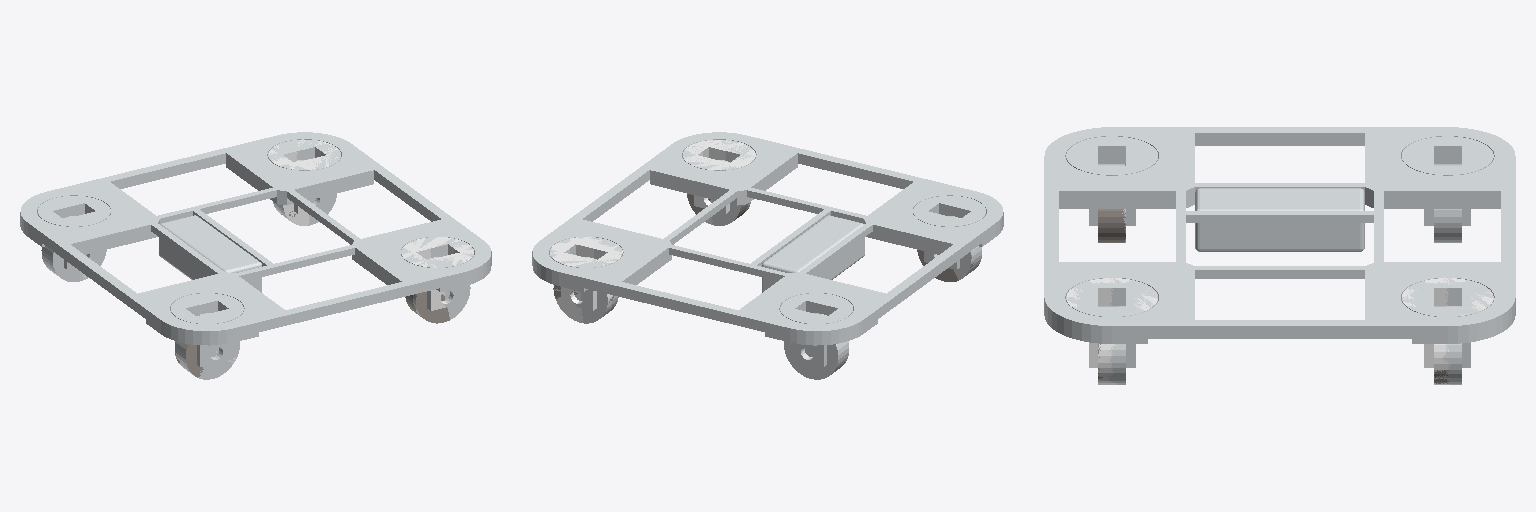
URDF robot description (urdf5):
<?xml version="1.0" encoding="utf-8"?>
<!-- This URDF was automatically created by SolidWorks to URDF Exporter! Originally created by [author] ([email redacted]) 
     Commit Version: 1.6.0-4-g7f85cfe  Build Version: 1.6.7995.38578
     For more information, please see http://wiki.ros.org/sw_urdf_exporter -->
<robot
  name="urdf5">
  <link
    name="base_link">
    <inertial>
      <origin
        xyz="0.239806775598059 0.0644983827316922 -0.250000000000001"
        rpy="0 0 0" />
      <mass
        value="6.94691712905856" />
      <inertia
        ixx="0.0103879006677156"
        ixy="1.41792371111216E-19"
        ixz="1.05493782271877E-17"
        iyy="0.0155271521411309"
        iyz="-1.61656369620734E-18"
        izz="0.00891994931423242" />
    </inertial>
    <visual>
      <origin
        xyz="0 0 0"
        rpy="0 0 0" />
      <geometry>
        <mesh
          filename="package://urdf5/meshes/base_link.STL" />
      </geometry>
      <material
        name="">
        <color
          rgba="0.898039215686275 0.917647058823529 0.929411764705882 1" />
      </material>
    </visual>
    <collision>
      <origin
        xyz="0 0 0"
        rpy="0 0 0" />
      <geometry>
        <mesh
          filename="package://urdf5/meshes/base_link.STL" />
      </geometry>
    </collision>
  </link>
  <link
    name="st_fr">
    <inertial>
      <origin
        xyz="0 2.77555756156289E-17 -0.0477326937791912"
        rpy="0 0 0" />
      <mass
        value="0.98656895809198" />
      <inertia
        ixx="0.000605869465521238"
        ixy="-2.69820152010115E-18"
        ixz="-8.94048776580583E-21"
        iyy="0.000870444277121926"
        iyz="2.36979477125424E-20"
        izz="0.000666770084789447" />
    </inertial>
    <visual>
      <origin
        xyz="0 0 0"
        rpy="0 0 0" />
      <geometry>
        <mesh
          filename="package://urdf5/meshes/st_fr.STL" />
      </geometry>
      <material
        name="">
        <color
          rgba="1 1 1 1" />
      </material>
    </visual>
    <collision>
      <origin
        xyz="0 0 0"
        rpy="0 0 0" />
      <geometry>
        <mesh
          filename="package://urdf5/meshes/st_fr.STL" />
      </geometry>
    </collision>
  </link>
  <joint
    name="st_fr"
    type="fixed">
    <origin
      xyz="0.428 0.072 0.098"
      rpy="0 0 3.1416" />
    <parent
      link="base_link" />
    <child
      link="st_fr" />
    <axis
      xyz="0 0 0" />
  </joint>
  <link
    name="wh_fr">
    <inertial>
      <origin
        xyz="-1.11022302462516E-16 2.77555756156289E-17 0.015"
        rpy="0 0 0" />
      <mass
        value="0.764764182848667" />
      <inertia
        ixx="0.000394618318349911"
        ixy="-2.71050543121423E-20"
        ixz="-2.70957328763451E-18"
        iyy="0.000394618318349911"
        iyz="1.11599666701632E-19"
        izz="0.000674522009272522" />
    </inertial>
    <visual>
      <origin
        xyz="0 0 0"
        rpy="0 0 0" />
      <geometry>
        <mesh
          filename="package://urdf5/meshes/wh_fr.STL" />
      </geometry>
      <material
        name="">
        <color
          rgba="0.686274509803922 0.658823529411765 0.63921568627451 1" />
      </material>
    </visual>
    <collision>
      <origin
        xyz="0 0 0"
        rpy="0 0 0" />
      <geometry>
        <mesh
          filename="package://urdf5/meshes/wh_fr.STL" />
      </geometry>
    </collision>
  </link>
  <joint
    name="wh_fr"
    type="fixed">
    <origin
      xyz="0 0.015 -0.056"
      rpy="-1.5708 -0.31698 3.1416" />
    <parent
      link="st_fr" />
    <child
      link="wh_fr" />
    <axis
      xyz="0 0 0" />
  </joint>
  <link
    name="st_fl">
    <inertial>
      <origin
        xyz="1.11022302462516E-16 5.55111512312578E-17 -0.0477326937791915"
        rpy="0 0 0" />
      <mass
        value="0.986568958091981" />
      <inertia
        ixx="0.000605869465521238"
        ixy="-2.66991795281759E-18"
        ixz="-1.0364211779504E-20"
        iyy="0.000870444277121927"
        iyz="-7.58784823176238E-20"
        izz="0.000666770084789447" />
    </inertial>
    <visual>
      <origin
        xyz="0 0 0"
        rpy="0 0 0" />
      <geometry>
        <mesh
          filename="package://urdf5/meshes/st_fl.STL" />
      </geometry>
      <material
        name="">
        <color
          rgba="1 1 1 1" />
      </material>
    </visual>
    <collision>
      <origin
        xyz="0 0 0"
        rpy="0 0 0" />
      <geometry>
        <mesh
          filename="package://urdf5/meshes/st_fl.STL" />
      </geometry>
    </collision>
  </link>
  <joint
    name="st_fl"
    type="fixed">
    <origin
      xyz="0.428 0.428 0.098"
      rpy="0 0 3.1416" />
    <parent
      link="base_link" />
    <child
      link="st_fl" />
    <axis
      xyz="0 0 0" />
  </joint>
  <link
    name="wh_fl">
    <inertial>
      <origin
        xyz="-1.38777878078145E-17 -5.55111512312578E-17 0.0150000000000001"
        rpy="0 0 0" />
      <mass
        value="0.764764182848668" />
      <inertia
        ixx="0.000394618318349911"
        ixy="2.80869186206329E-33"
        ixz="-5.05968944935445E-19"
        iyy="0.000394618318349911"
        iyz="-3.30844112456072E-19"
        izz="0.000674522009272522" />
    </inertial>
    <visual>
      <origin
        xyz="0 0 0"
        rpy="0 0 0" />
      <geometry>
        <mesh
          filename="package://urdf5/meshes/wh_fl.STL" />
      </geometry>
      <material
        name="">
        <color
          rgba="0.686274509803922 0.658823529411765 0.63921568627451 1" />
      </material>
    </visual>
    <collision>
      <origin
        xyz="0 0 0"
        rpy="0 0 0" />
      <geometry>
        <mesh
          filename="package://urdf5/meshes/wh_fl.STL" />
      </geometry>
    </collision>
  </link>
  <joint
    name="wh_fl"
    type="fixed">
    <origin
      xyz="0 0.015 -0.056"
      rpy="-1.57079632679491 1.37893541128008 3.14159265358979" />
    <parent
      link="st_fl" />
    <child
      link="wh_fl" />
    <axis
      xyz="0 0 -1" />
  </joint>
  <link
    name="st_bl">
    <inertial>
      <origin
        xyz="-9.71445146547012E-17 -1.11022302462516E-16 -0.0477326937791914"
        rpy="0 0 0" />
      <mass
        value="0.986568958091981" />
      <inertia
        ixx="0.000605869465521238"
        ixy="-2.72449882726411E-18"
        ixz="-5.59604019831836E-21"
        iyy="0.000870444277121927"
        iyz="-3.95278682149799E-20"
        izz="0.000666770084789447" />
    </inertial>
    <visual>
      <origin
        xyz="0 0 0"
        rpy="0 0 0" />
      <geometry>
        <mesh
          filename="package://urdf5/meshes/st_bl.STL" />
      </geometry>
      <material
        name="">
        <color
          rgba="1 1 1 1" />
      </material>
    </visual>
    <collision>
      <origin
        xyz="0 0 0"
        rpy="0 0 0" />
      <geometry>
        <mesh
          filename="package://urdf5/meshes/st_bl.STL" />
      </geometry>
    </collision>
  </link>
  <joint
    name="st_bl"
    type="fixed">
    <origin
      xyz="0.072 0.428 0.098"
      rpy="0 0 0" />
    <parent
      link="base_link" />
    <child
      link="st_bl" />
    <axis
      xyz="0 0 0" />
  </joint>
  <link
    name="wh_bl">
    <inertial>
      <origin
        xyz="0 1.2490009027033E-16 0.015"
        rpy="0 0 0" />
      <mass
        value="0.764764182848668" />
      <inertia
        ixx="0.000394618318349911"
        ixy="-8.470329472543E-22"
        ixz="1.04246469853974E-19"
        iyy="0.000394618318349911"
        iyz="2.87657101211516E-18"
        izz="0.000674522009272522" />
    </inertial>
    <visual>
      <origin
        xyz="0 0 0"
        rpy="0 0 0" />
      <geometry>
        <mesh
          filename="package://urdf5/meshes/wh_bl.STL" />
      </geometry>
      <material
        name="">
        <color
          rgba="0.686274509803922 0.658823529411765 0.63921568627451 1" />
      </material>
    </visual>
    <collision>
      <origin
        xyz="0 0 0"
        rpy="0 0 0" />
      <geometry>
        <mesh
          filename="package://urdf5/meshes/wh_bl.STL" />
      </geometry>
    </collision>
  </link>
  <joint
    name="wh_bl"
    type="fixed">
    <origin
      xyz="0 0.015 -0.0559999999999999"
      rpy="1.5707963267949 1.5497746785967 0" />
    <parent
      link="st_bl" />
    <child
      link="wh_bl" />
    <axis
      xyz="0 0 1" />
  </joint>
  <link
    name="st_br">
    <inertial>
      <origin
        xyz="-1.22124532708767E-15 0 -0.0477326937791915"
        rpy="0 0 0" />
      <mass
        value="0.98656895809198" />
      <inertia
        ixx="0.000605869465521238"
        ixy="-2.6500321479286E-18"
        ixz="-3.80788442555494E-21"
        iyy="0.000870444277121926"
        iyz="1.12837580334924E-20"
        izz="0.000666770084789447" />
    </inertial>
    <visual>
      <origin
        xyz="0 0 0"
        rpy="0 0 0" />
      <geometry>
        <mesh
          filename="package://urdf5/meshes/st_br.STL" />
      </geometry>
      <material
        name="">
        <color
          rgba="1 1 1 1" />
      </material>
    </visual>
    <collision>
      <origin
        xyz="0 0 0"
        rpy="0 0 0" />
      <geometry>
        <mesh
          filename="package://urdf5/meshes/st_br.STL" />
      </geometry>
    </collision>
  </link>
  <joint
    name="st_br"
    type="fixed">
    <origin
      xyz="0.071999999999999 0.0720000000000007 0.098"
      rpy="0 0 0" />
    <parent
      link="base_link" />
    <child
      link="st_br" />
    <axis
      xyz="0 -1 0" />
  </joint>
  <link
    name="wh_br">
    <inertial>
      <origin
        xyz="-1.38777878078145E-16 -8.32667268468867E-17 0.015"
        rpy="0 0 0" />
      <mass
        value="0.764764182848667" />
      <inertia
        ixx="0.000394618318349911"
        ixy="9.48676900924816E-20"
        ixz="-2.38221637064903E-18"
        iyy="0.000394618318349911"
        iyz="-1.50429089505785E-18"
        izz="0.000674522009272522" />
    </inertial>
    <visual>
      <origin
        xyz="0 0 0"
        rpy="0 0 0" />
      <geometry>
        <mesh
          filename="package://urdf5/meshes/wh_br.STL" />
      </geometry>
      <material
        name="">
        <color
          rgba="0.686274509803922 0.658823529411765 0.63921568627451 1" />
      </material>
    </visual>
    <collision>
      <origin
        xyz="0 0 0"
        rpy="0 0 0" />
      <geometry>
        <mesh
          filename="package://urdf5/meshes/wh_br.STL" />
      </geometry>
    </collision>
  </link>
  <joint
    name="wh_br"
    type="fixed">
    <origin
      xyz="0 0.015 -0.056"
      rpy="-1.5708 -0.57402 3.1416" />
    <parent
      link="st_br" />
    <child
      link="wh_br" />
    <axis
      xyz="0 0 0" />
  </joint>
</robot>

--- Facts derived from the render (not from the file) ---
Views: 3 orthographic renders of the robot side by side, from view 1: azimuth 30°, elevation 25°; view 2: azimuth 150°, elevation 25°; view 3: azimuth 270°, elevation 25°.
Model urdf5 with 9 links and 8 joints (8 fixed), rooted at base_link, posed all joints at 0.
Links seen in each view (by area): view 1: base_link, st_fr, st_fl, wh_fr; view 2: base_link, st_fl, st_fr; view 3: base_link, st_fr, st_fl, wh_br.
Link boxes in pixels (x1=…): base_link: x1=20, y1=132, x2=491, y2=379; st_fr: x1=402, y1=237, x2=473, y2=310; st_fl: x1=269, y1=139, x2=340, y2=225; wh_fr: x1=405, y1=292, x2=449, y2=323; base_link: x1=532, y1=132, x2=1003, y2=379; st_fl: x1=550, y1=237, x2=622, y2=322; st_fr: x1=684, y1=140, x2=755, y2=224; base_link: x1=1044, y1=127, x2=1515, y2=384; st_fr: x1=1067, y1=278, x2=1157, y2=384; st_fl: x1=1402, y1=278, x2=1493, y2=384; wh_br: x1=1098, y1=164, x2=1125, y2=242.
Size in the robot's own frame: 0.5 by 0.5 by 0.098 metres.
Meshes: 9 distinct files referenced, 9 mesh visuals loaded (9 binary STL).